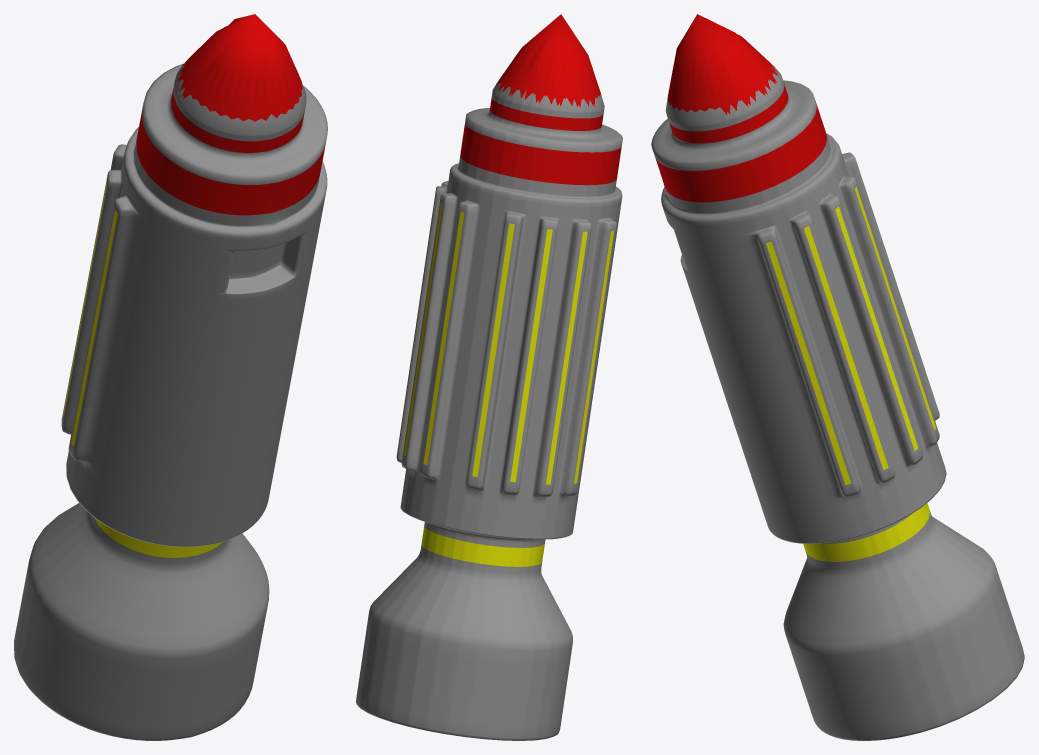
File: ChemRocket.fbx
The picture shows the model from 3 angles, left to right: view 1: azimuth 30°, elevation 25°; view 2: azimuth 150°, elevation 25°; view 3: azimuth 270°, elevation 25°; orthographic projection. The views are drawn at different scales.
Parts seen in each view (by area): view 1: Cone; view 2: Cone; view 3: Cone.
Boxes of the visible parts, x1,y1,x2,y2 form: Cone: (14,14,327,740); Cone: (356,14,622,740); Cone: (651,14,1024,740).
Bounding box in the file's own units: 145 × 508 × 245.
